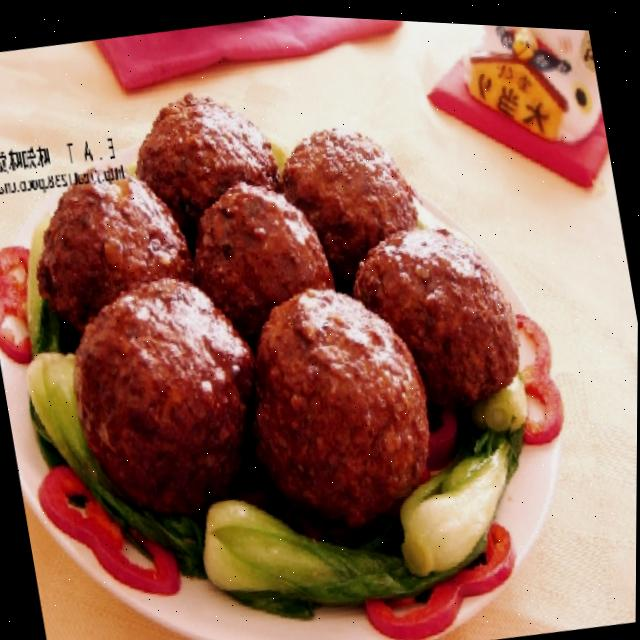猪肉菜式: (0, 1, 627, 640)
